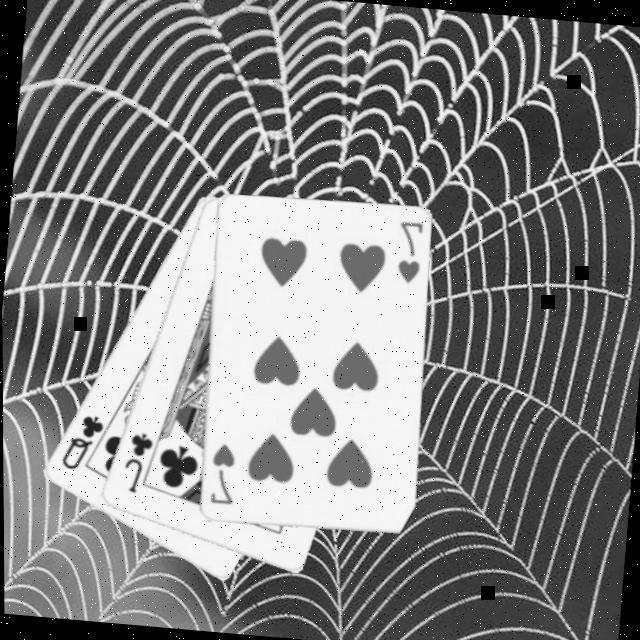7H: (202, 441, 238, 510), (390, 220, 426, 289)
JC: (114, 429, 154, 499)
QC: (54, 411, 105, 477)
